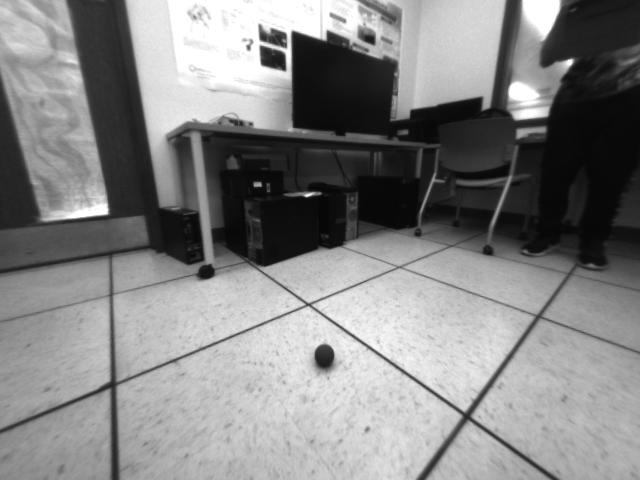dogtoy: (308, 338, 340, 369)
